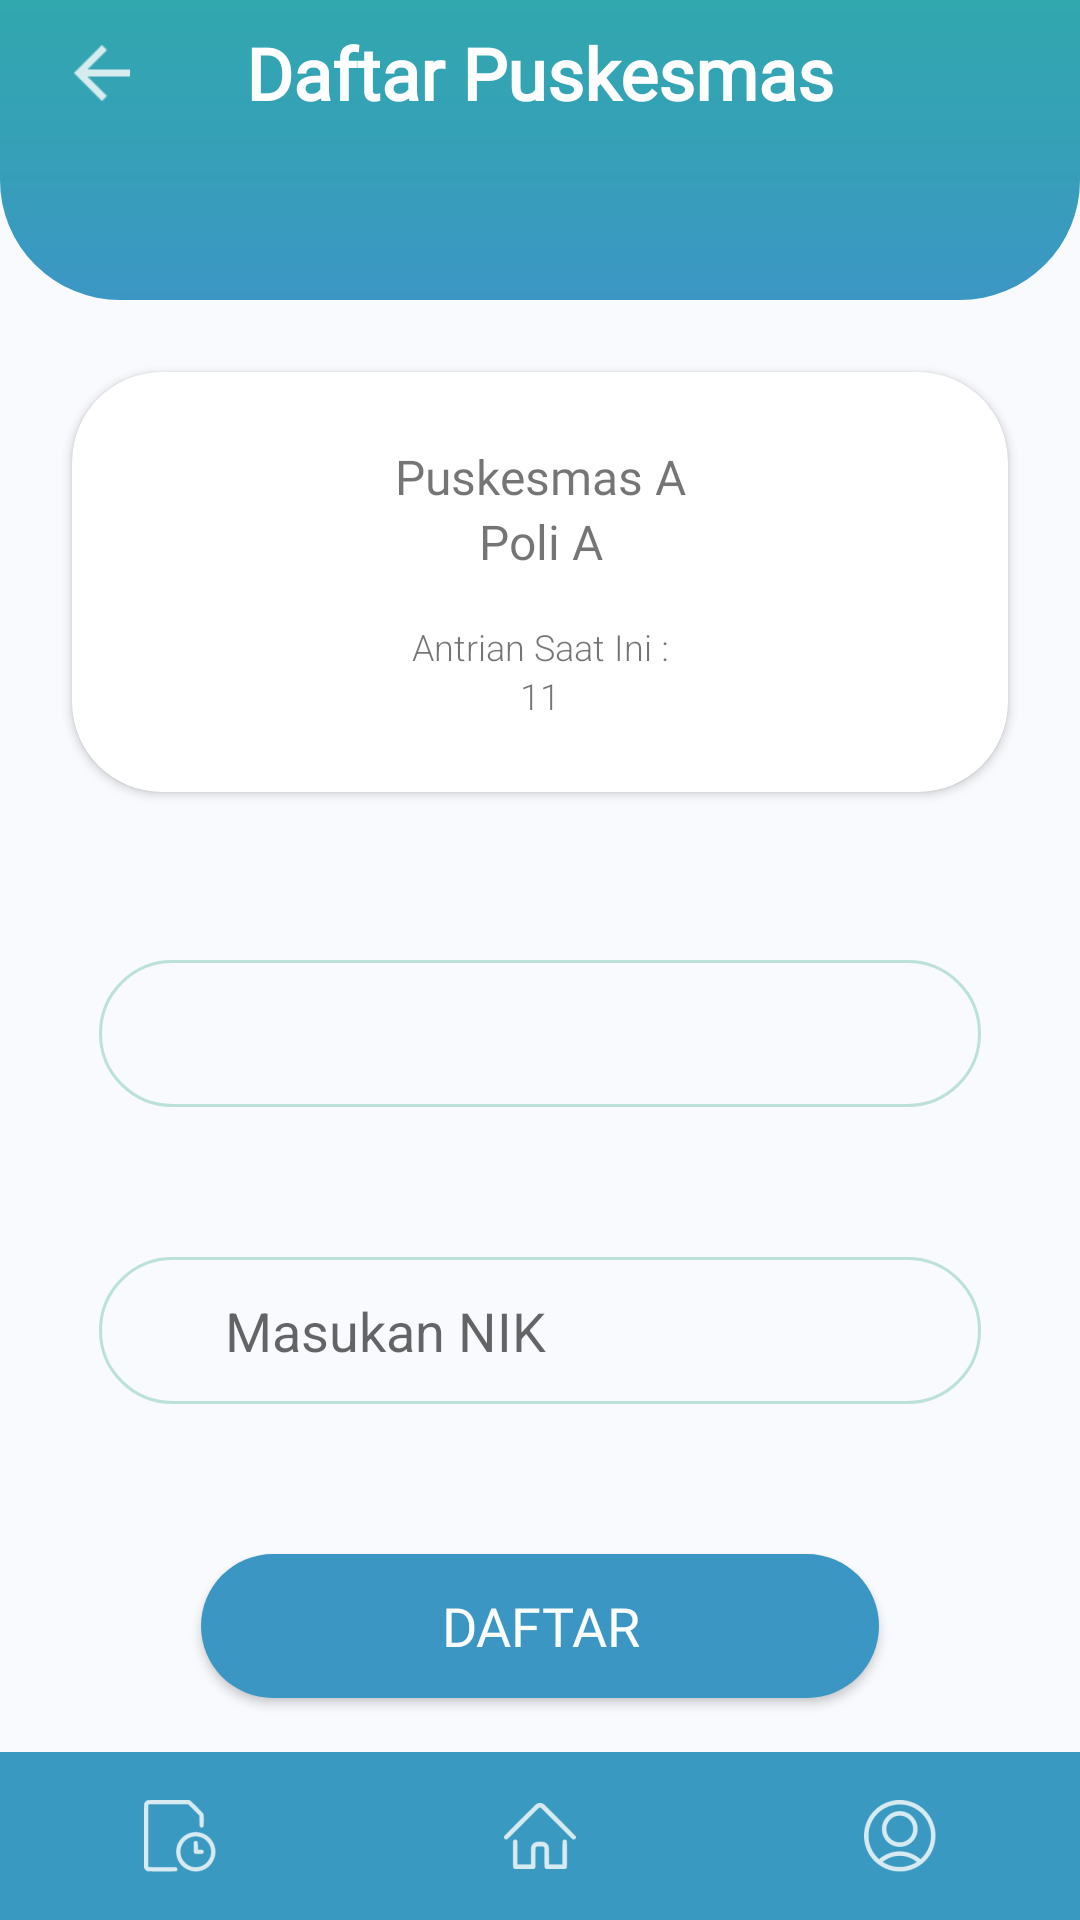

Locate icon controls on the screen. Image size 1080*1920, boxes as (x1, y1, x2, y2).
left back: (74, 45, 130, 101)
